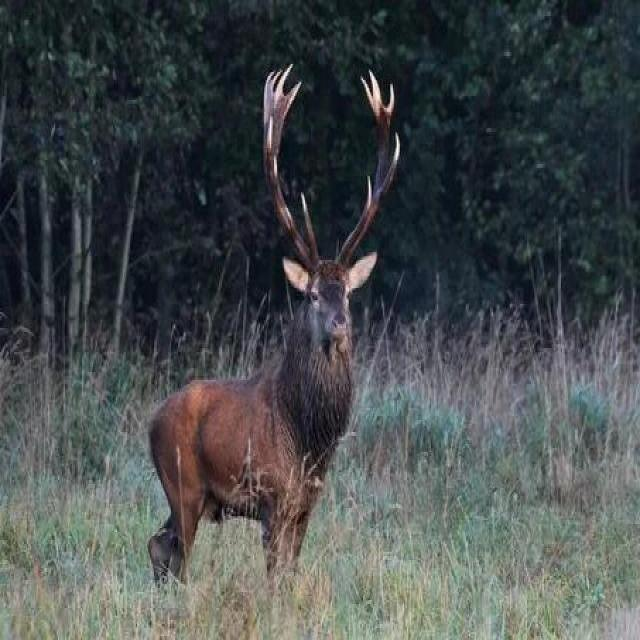deer: (182, 57, 419, 572)
